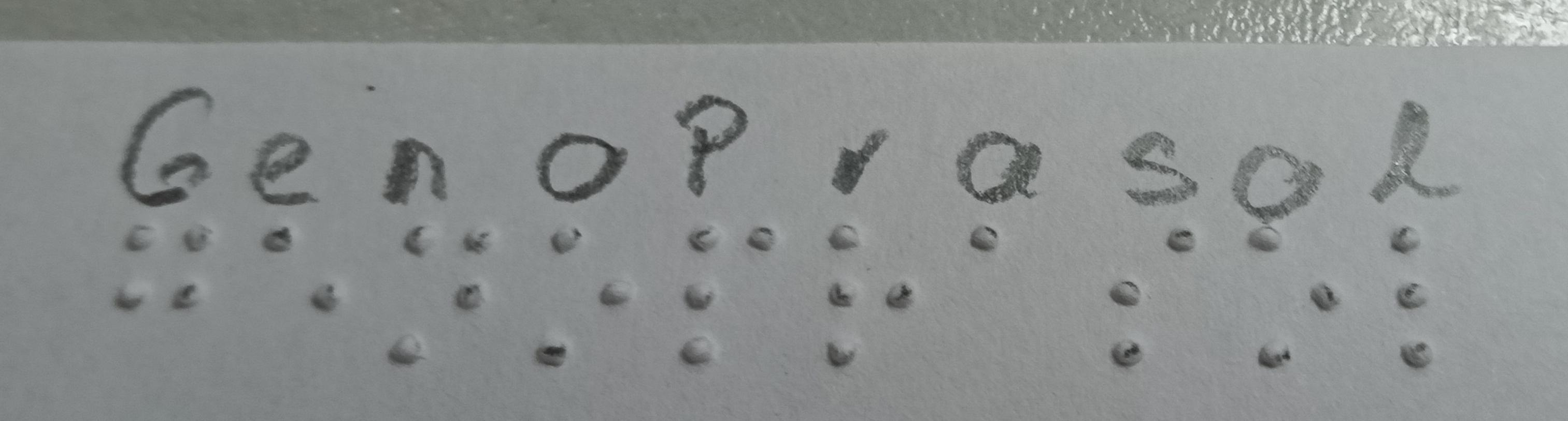a: (934, 212, 1038, 276)
e: (233, 214, 352, 324)
g: (102, 212, 225, 324)
l: (1365, 221, 1461, 374)
n: (371, 215, 499, 367)
o: (515, 212, 637, 367), (1225, 219, 1344, 369)
p: (668, 210, 779, 386)
r: (798, 210, 929, 379)
s: (1073, 210, 1207, 365)
